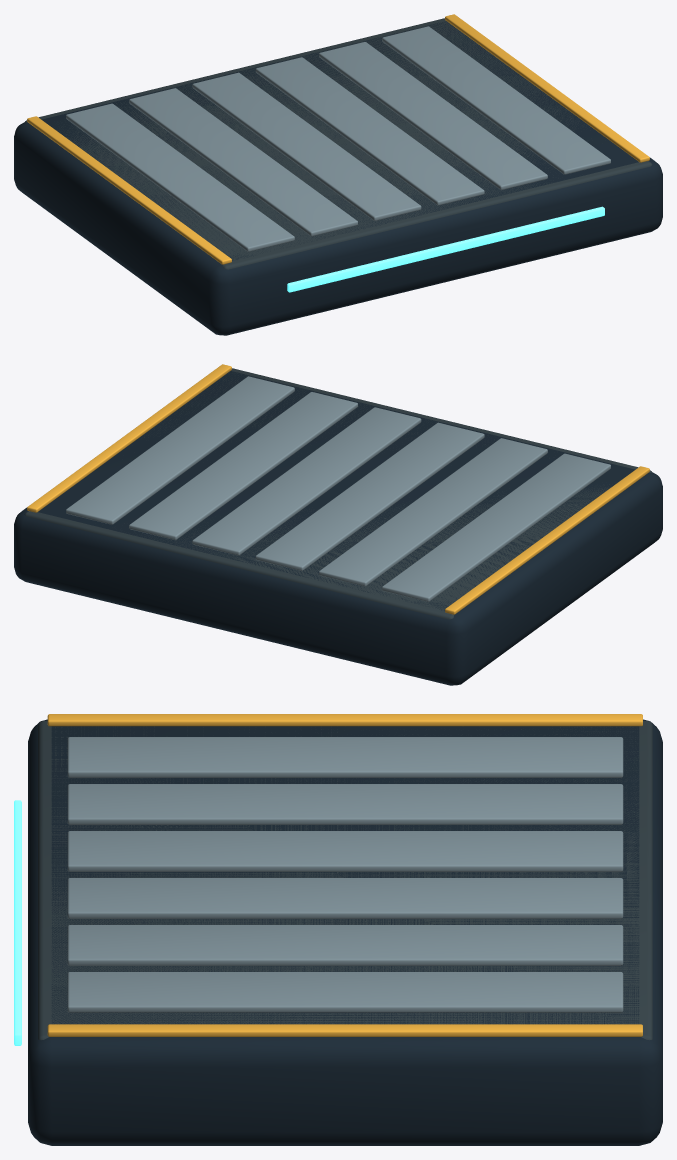
File: insulated_refuge.glb
3 renders of one model, top to bottom at view 1: azimuth 30°, elevation 25°; view 2: azimuth 150°, elevation 25°; view 3: azimuth 270°, elevation 25°, orthographic. The views are drawn at different scales.
Parts seen in each view (by area): view 1: Ceramic ribs, Insulator core, Ceramic landing, Amber isolation edge, Grounded status; view 2: Insulator core, Ceramic ribs, Ceramic landing, Amber isolation edge; view 3: Ceramic ribs, Insulator core, Ceramic landing, Amber isolation edge, Grounded status.
Boxes of the visible parts, x1,y1,x2,y2 form: Ceramic ribs: (66,26,610,251); Insulator core: (14,21,662,335); Ceramic landing: (24,18,652,269); Amber isolation edge: (27,14,649,264); Grounded status: (287,206,604,292); Insulator core: (14,371,662,685); Ceramic ribs: (66,376,610,601); Ceramic landing: (24,368,652,619); Amber isolation edge: (27,364,649,614); Ceramic ribs: (67,737,623,1012); Insulator core: (28,719,662,1145); Ceramic landing: (38,720,652,1040); Amber isolation edge: (47,714,642,1036); Grounded status: (14,800,21,1045).
Size of the model in its own units: 4 by 0.638 by 3.27.
